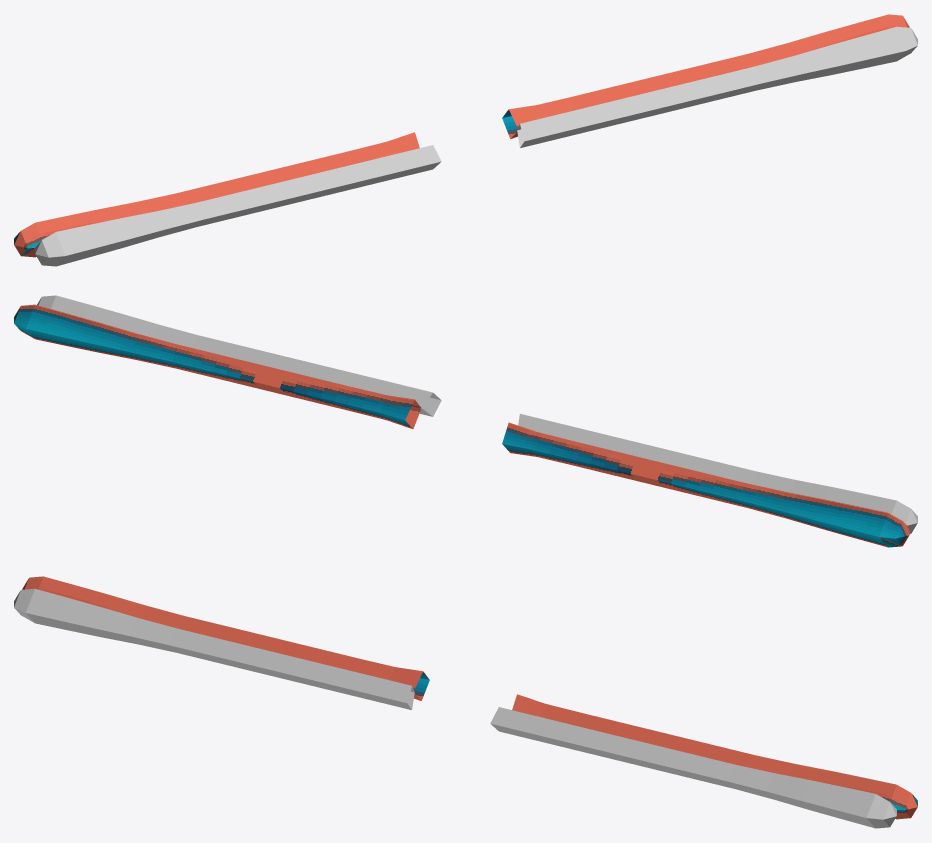
The model's file is BR_Deoxys.obj.
3 views of the same model, one above another, from view 1: azimuth 30°, elevation 25°; view 2: azimuth 150°, elevation 25°; view 3: azimuth 330°, elevation 25° (orthographic).
Visible parts, largest first — view 1: deoxys; view 2: deoxys; view 3: deoxys.
Boxes of the visible parts, x1,y1,x2,y2 form: deoxys: [14, 14, 917, 266]; deoxys: [14, 295, 917, 547]; deoxys: [14, 576, 917, 828].
Bounding box in the file's own units: 28.2 × 1.04 × 1.82.
